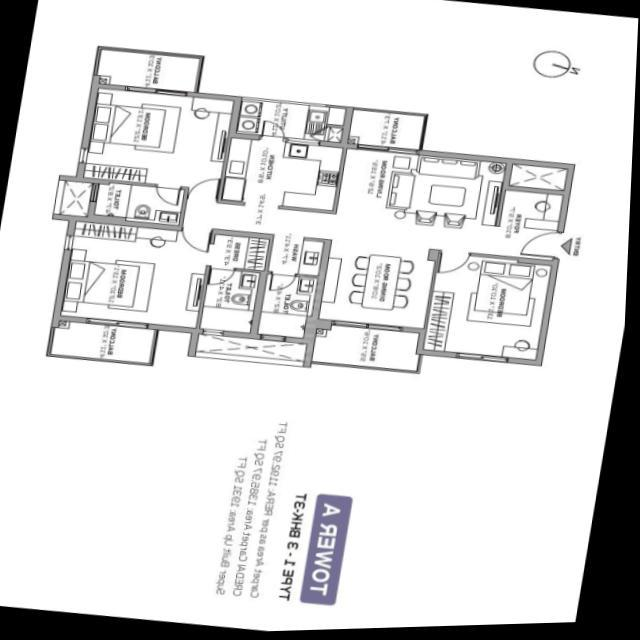Balcony-Sitout: (313, 327, 424, 374), (95, 49, 200, 92), (54, 320, 154, 361), (350, 112, 423, 152)
Bedroom: (63, 222, 212, 328), (424, 255, 552, 362)
Bedroom with Toilet: (65, 224, 264, 333), (84, 89, 231, 228)
Dining: (346, 253, 419, 313)
Dress: (212, 236, 269, 272)
Enterance-Foyer: (498, 194, 561, 261)
Kitchen: (224, 140, 342, 211)
Living: (333, 150, 505, 255)
Toilet: (259, 276, 318, 340), (95, 183, 184, 225), (203, 270, 259, 333), (269, 240, 324, 278)
Utility: (238, 101, 344, 145)
